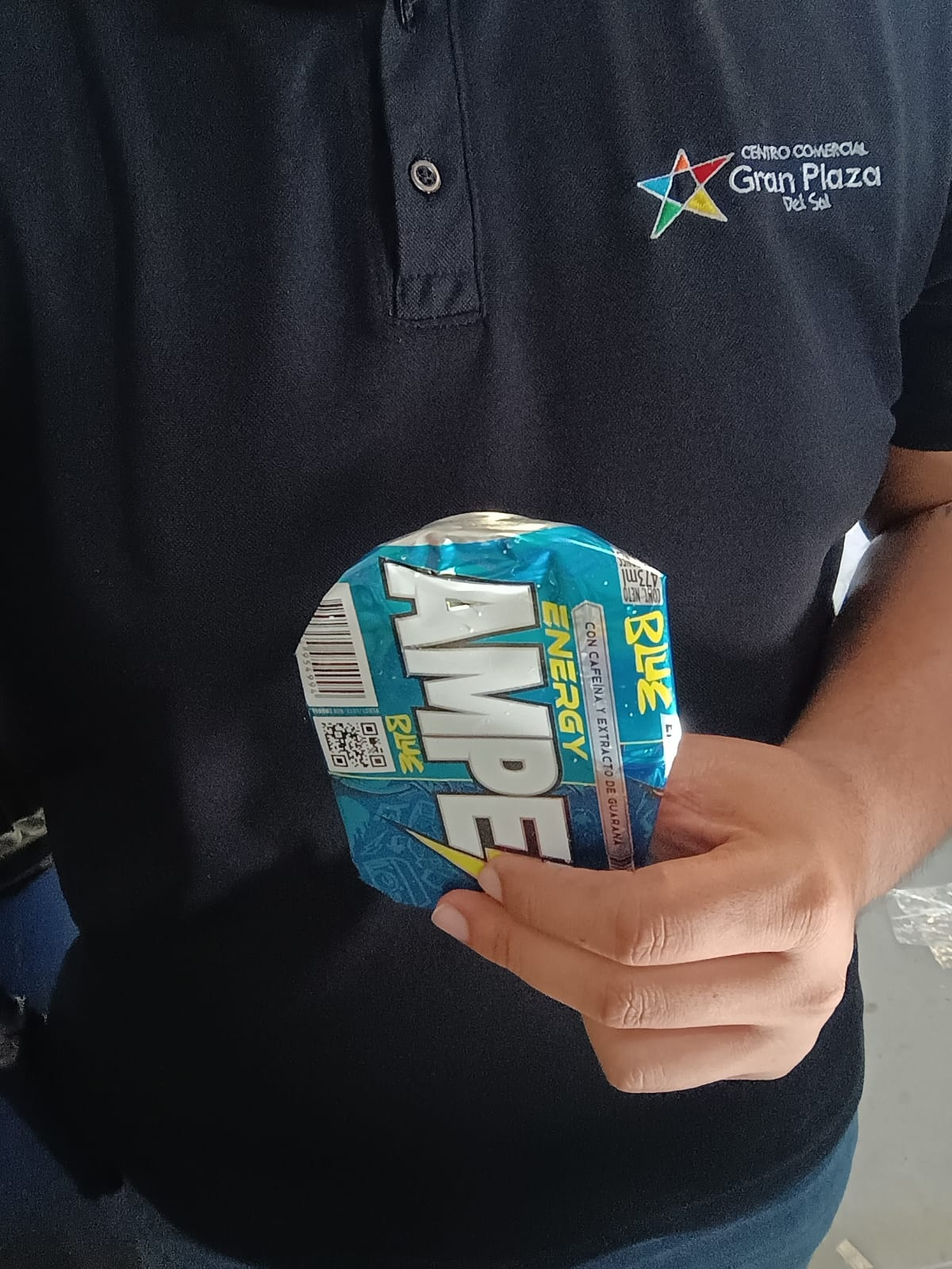Metal: (290, 506, 682, 924)
